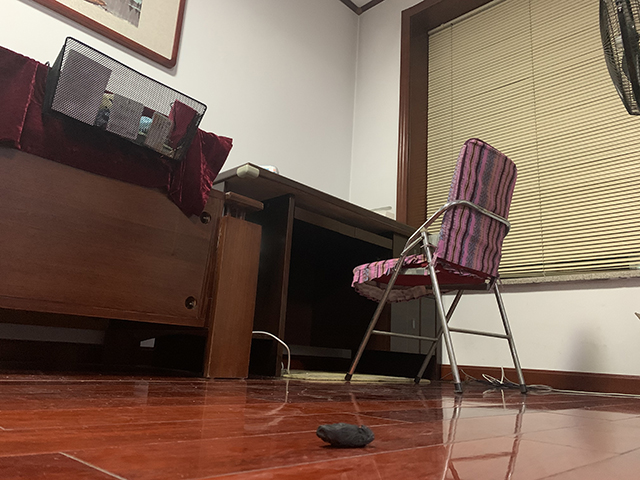bed: (1, 36, 266, 380)
carpet: (282, 368, 432, 385)
feces: (316, 422, 376, 449)
table: (212, 162, 443, 383)
wire: (442, 364, 640, 400), (251, 330, 292, 375)
